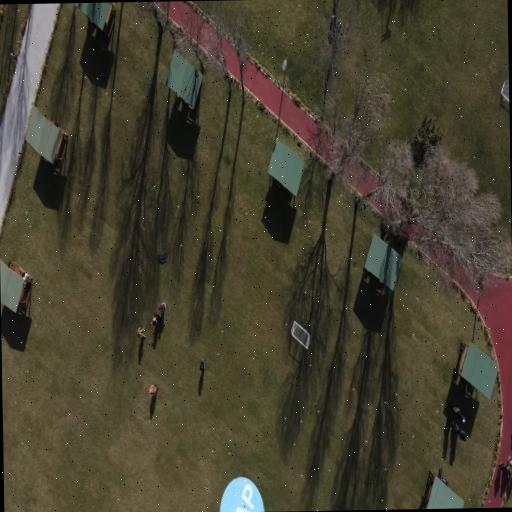UAP: (220, 477, 264, 512)
person: (450, 420, 466, 440), (453, 407, 465, 422), (499, 462, 511, 475), (439, 469, 448, 486), (450, 420, 460, 434), (149, 384, 158, 395), (137, 327, 145, 339), (157, 302, 166, 312), (151, 315, 160, 325), (158, 253, 166, 264), (459, 430, 466, 441), (200, 360, 205, 372), (22, 273, 28, 283), (509, 457, 511, 468), (509, 457, 511, 466)
